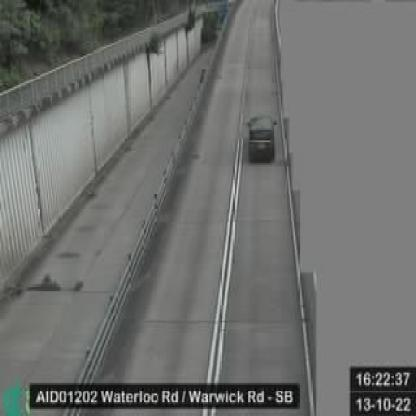Car: (245, 114, 277, 164)
